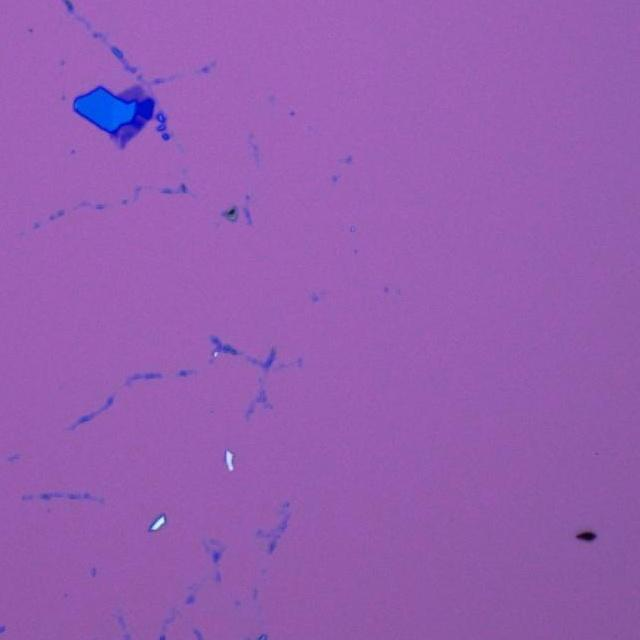monolayer-eWW4: (116, 84, 148, 104)
